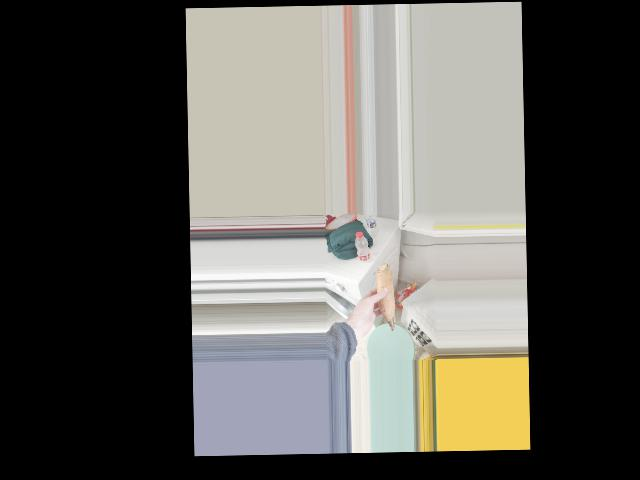sweet_potato: (371, 260, 400, 332)
